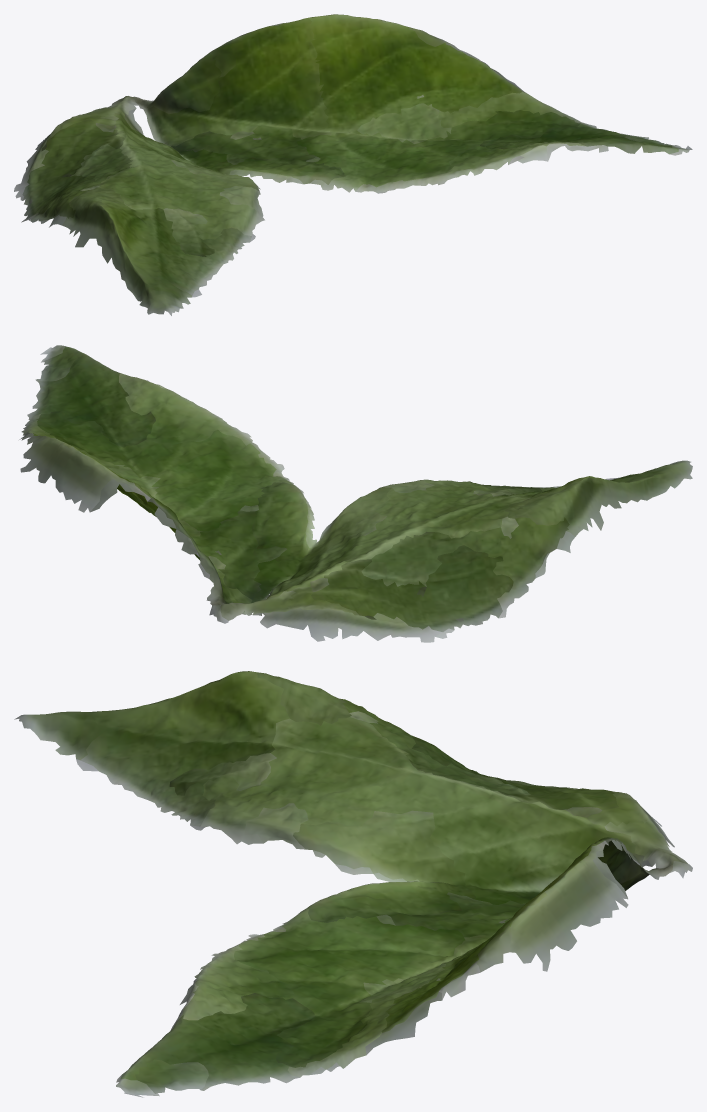
File: leaf-02.glb
3 renders of one model, top to bottom at view 1: azimuth 30°, elevation 25°; view 2: azimuth 150°, elevation 25°; view 3: azimuth 270°, elevation 25°, orthographic. The views are drawn at different scales.
Parts seen in each view (by area): view 1: Mesh; view 2: Mesh; view 3: Mesh.
Part boxes in pixels (<box>): Mesh: <box>14,14,692,315</box>; Mesh: <box>19,345,692,642</box>; Mesh: <box>14,671,692,1097</box>.
Size of the model in its own units: 0.1837 by 0.0305 by 0.1373.
1 material, 1 textured.
